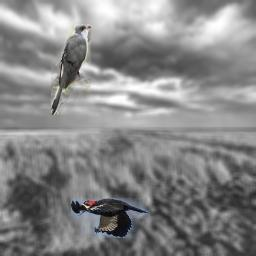Cuckoo: (51, 24, 91, 115)
Woodpecker: (71, 198, 150, 238)
